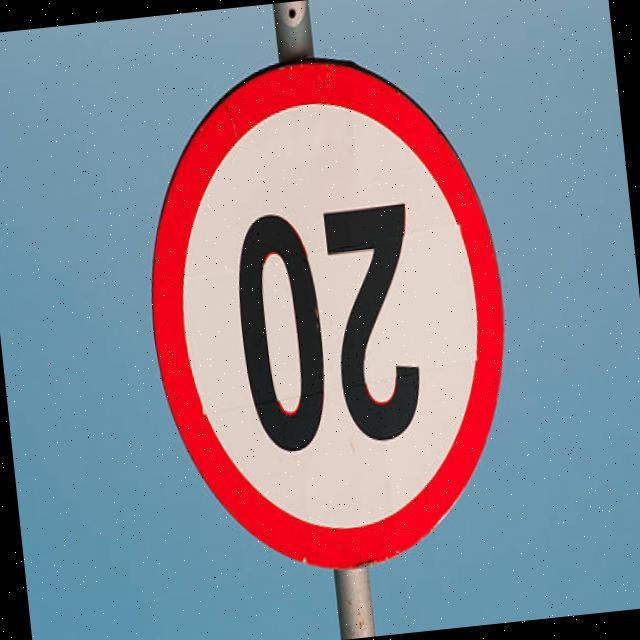speed_limit_20: (124, 44, 529, 597)
